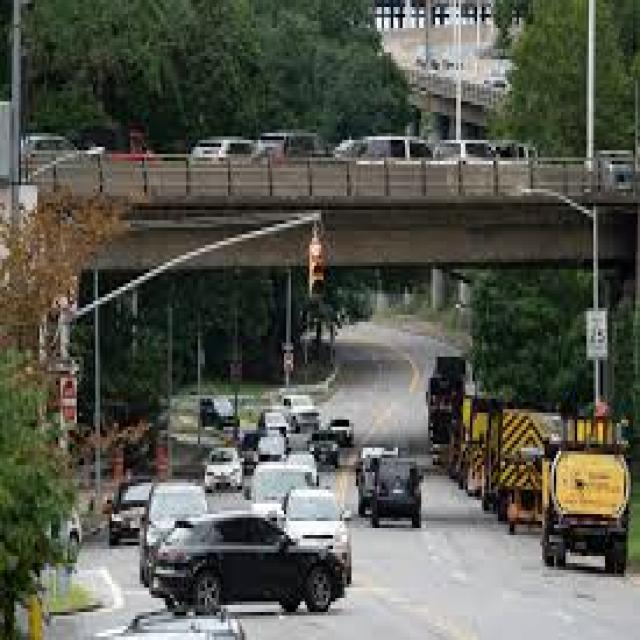speedLimit25: (589, 313, 607, 351)
